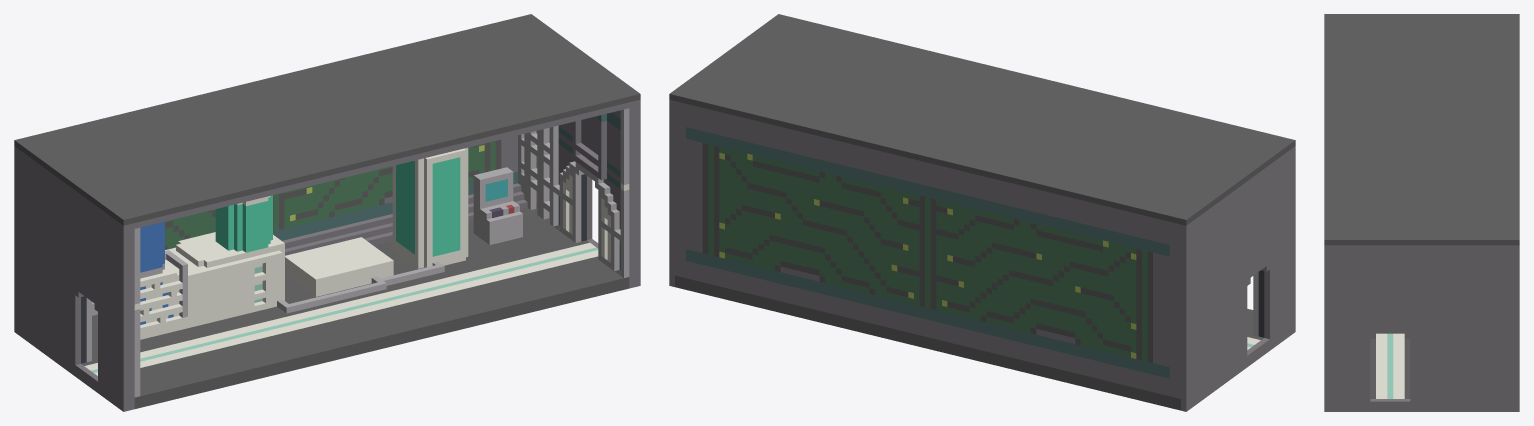
File: Oxygen Module.obj
3 views of the same model, side by side, from view 1: azimuth 30°, elevation 25°; view 2: azimuth 150°, elevation 25°; view 3: azimuth 270°, elevation 25° (orthographic). The views are drawn at different scales.
Size of the model in its own units: 9.3 by 3.3 by 3.4.
Materials: 1 (1 with a texture image).
